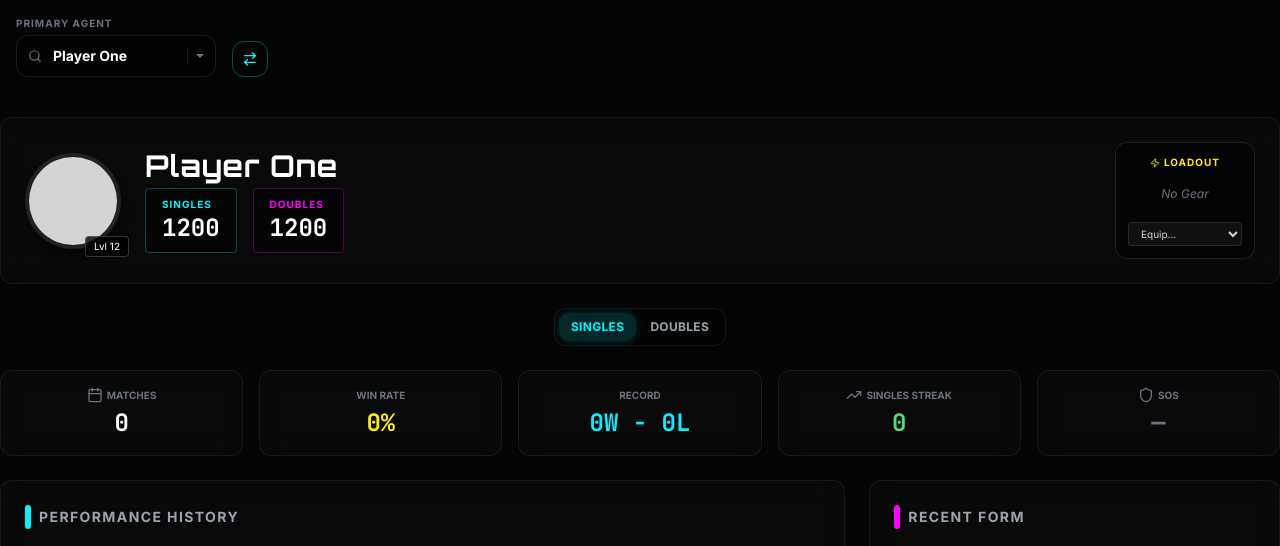
Test: StatsDashboard Component › Unit Tests: Edge Cases › handles players with no history for selected game type
# Enter comparison mode
What coordinates should you click on to do the following:
click the button titled "Compare Players"
I would click on:
 (250, 59)
Its box is [232,41,268,77].
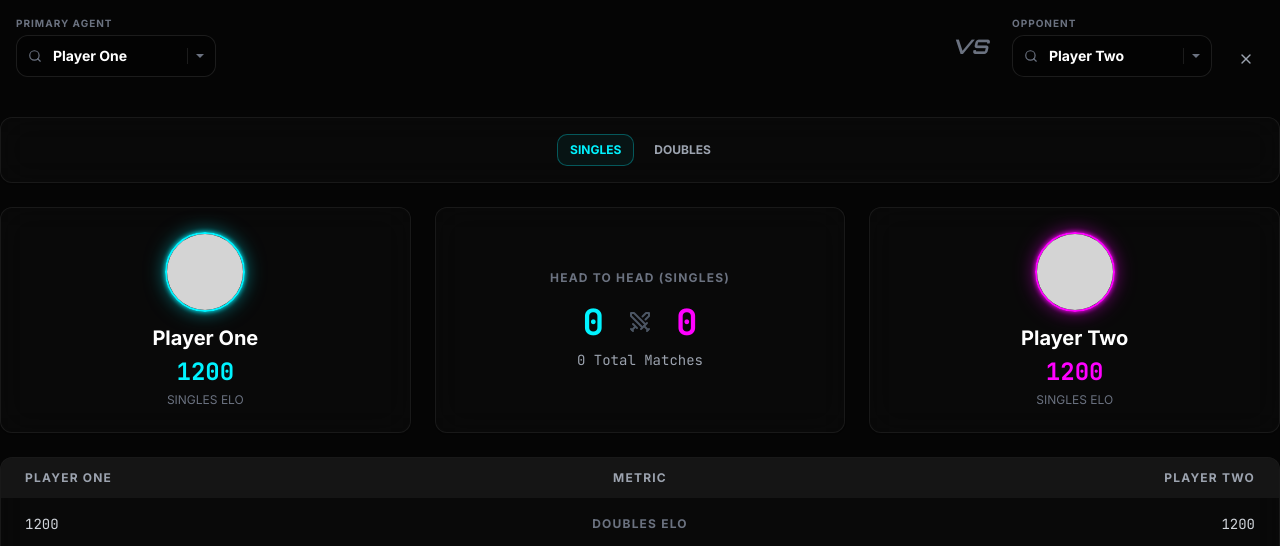
Expected: the text "1200" is shown, [176,356,234,388]
Now the text "0 Total Matches" is shown, box [577,350,703,370]
